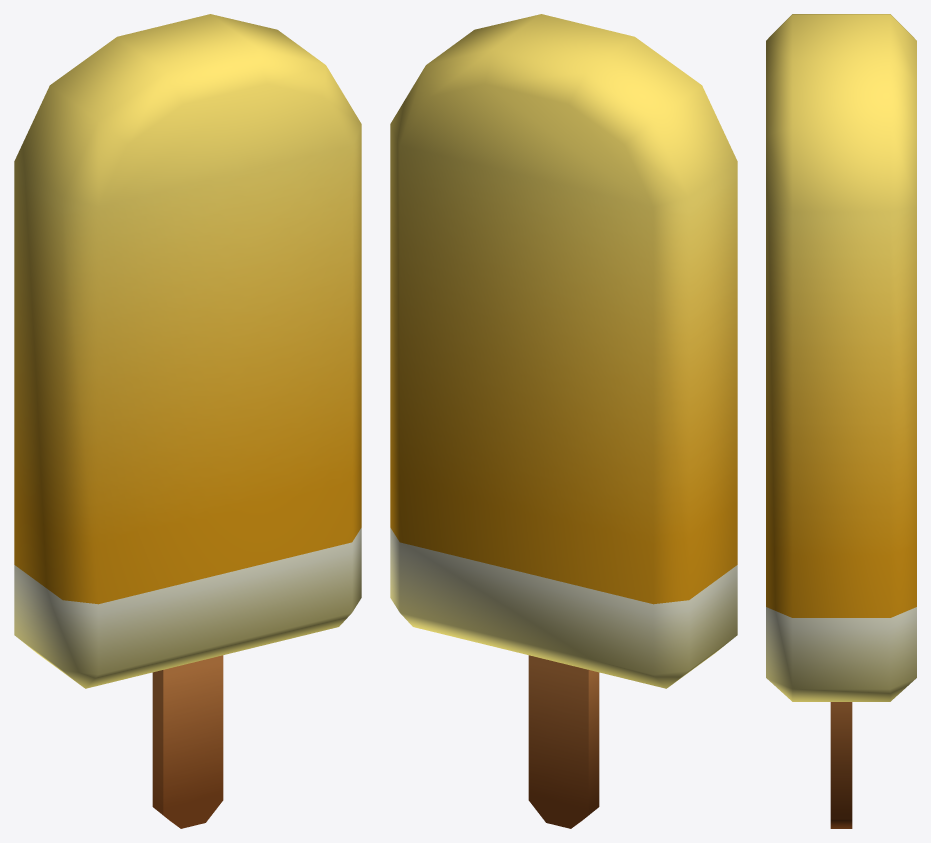
Rendered from m_SimplePopsicle08.fbx.
3 views of the same model, side by side, from view 1: azimuth 30°, elevation 25°; view 2: azimuth 150°, elevation 25°; view 3: azimuth 270°, elevation 25° (orthographic).
Visible parts, largest first — view 1: m_SimplePopsicle08; view 2: m_SimplePopsicle08; view 3: m_SimplePopsicle08.
Boxes of the visible parts, x1,y1,x2,y2 form: m_SimplePopsicle08: (14,14,361,828); m_SimplePopsicle08: (390,14,737,828); m_SimplePopsicle08: (766,14,916,828).
Size of the model in its own units: 9.24 by 22.99 by 4.
